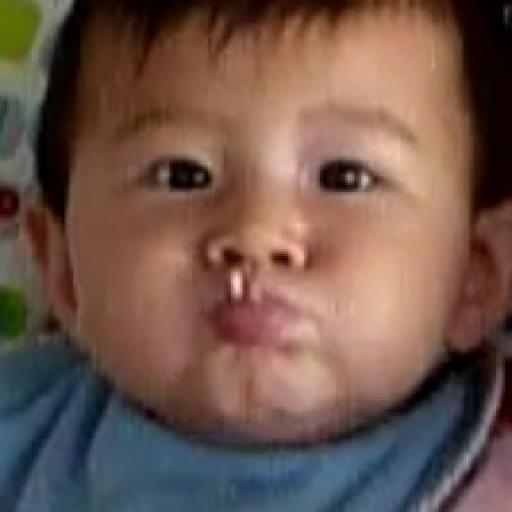Autism: (36, 0, 512, 512)
